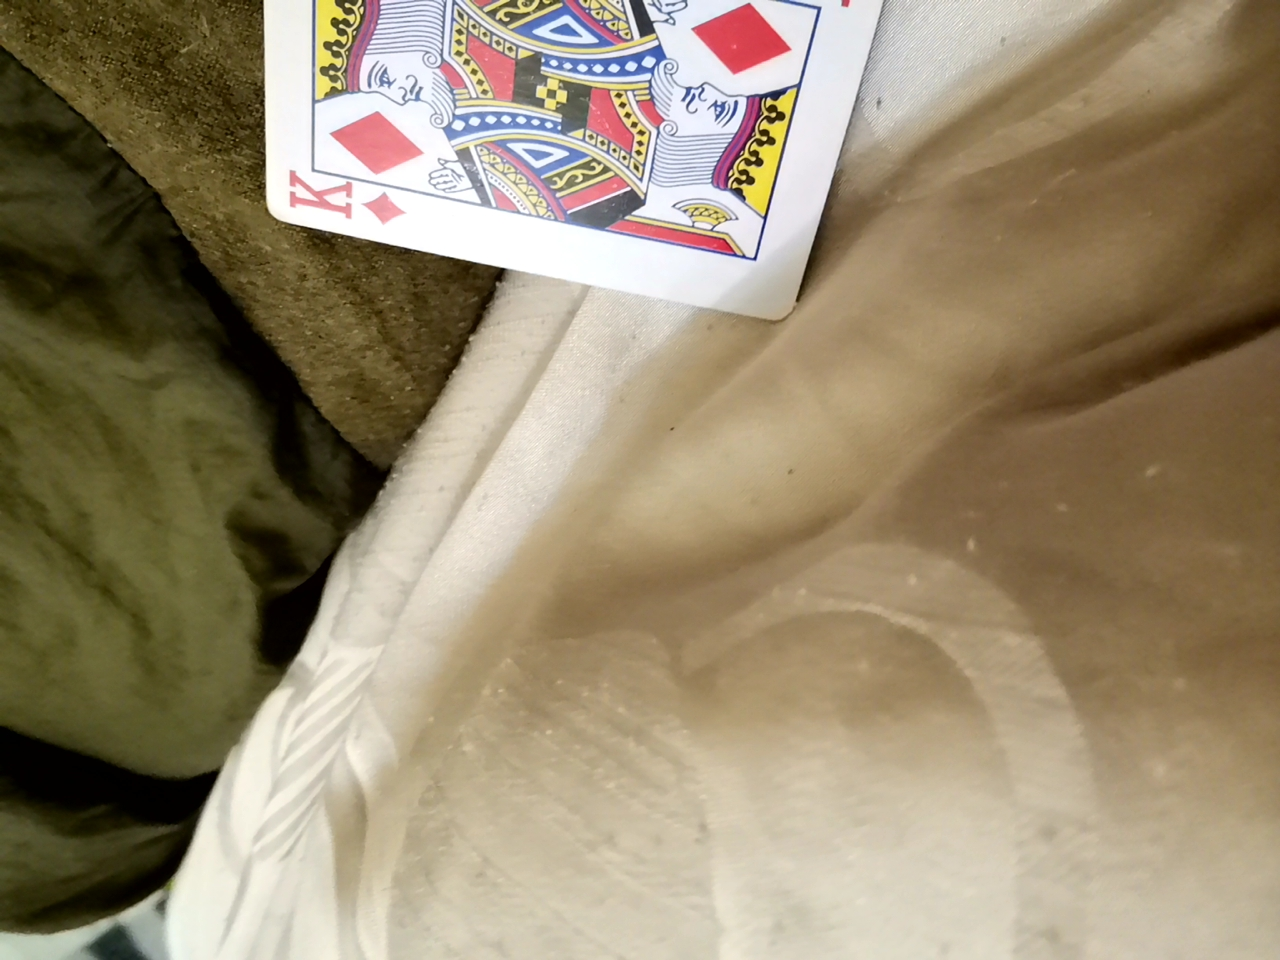fk k: (223, 0, 887, 322)
